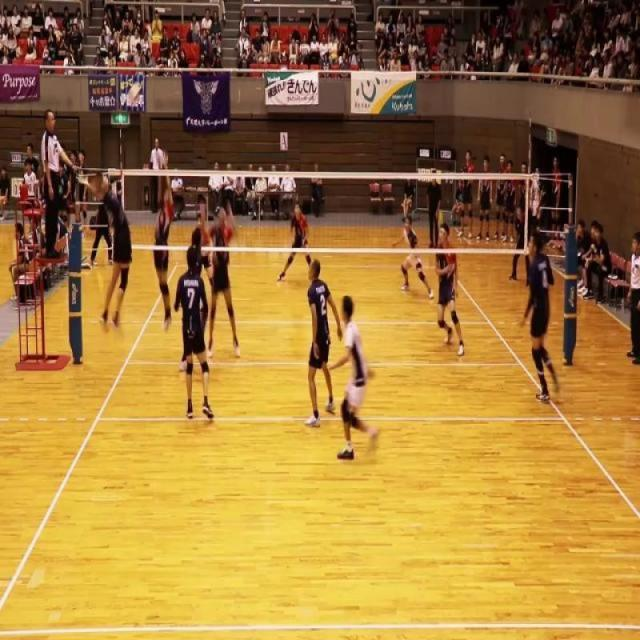volleyball: (128, 81, 140, 100)
